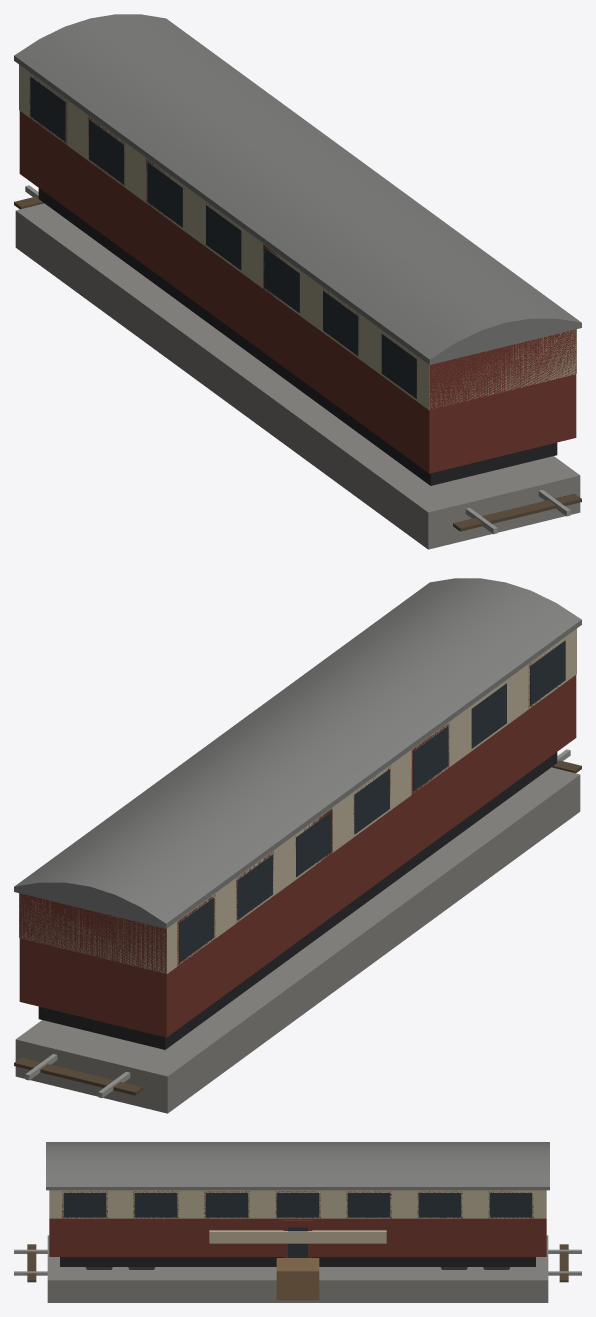
The model's file is SM_Prop_cafe_building_5_LOD1.glb.
3 renders of one model, top to bottom at view 1: azimuth 30°, elevation 25°; view 2: azimuth 150°, elevation 25°; view 3: azimuth 270°, elevation 25°, orthographic. The views are drawn at different scales.
Parts seen in each view (by area): view 1: SM_Prop_cafe_building_5_LOD1; view 2: SM_Prop_cafe_building_5_LOD1; view 3: SM_Prop_cafe_building_5_LOD1.
Boxes of the visible parts, box(x1,y1,x2,y2) form: SM_Prop_cafe_building_5_LOD1: box(14, 14, 581, 549); SM_Prop_cafe_building_5_LOD1: box(14, 578, 581, 1113); SM_Prop_cafe_building_5_LOD1: box(14, 1142, 581, 1302).
Bounding box in the file's own units: 3.9 × 3.95 × 16.
